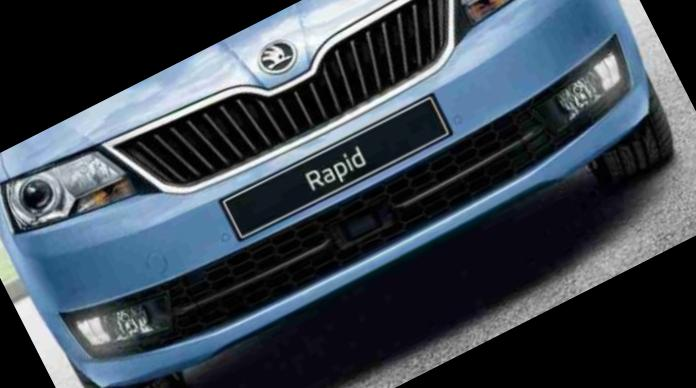plate: (204, 74, 473, 253)
